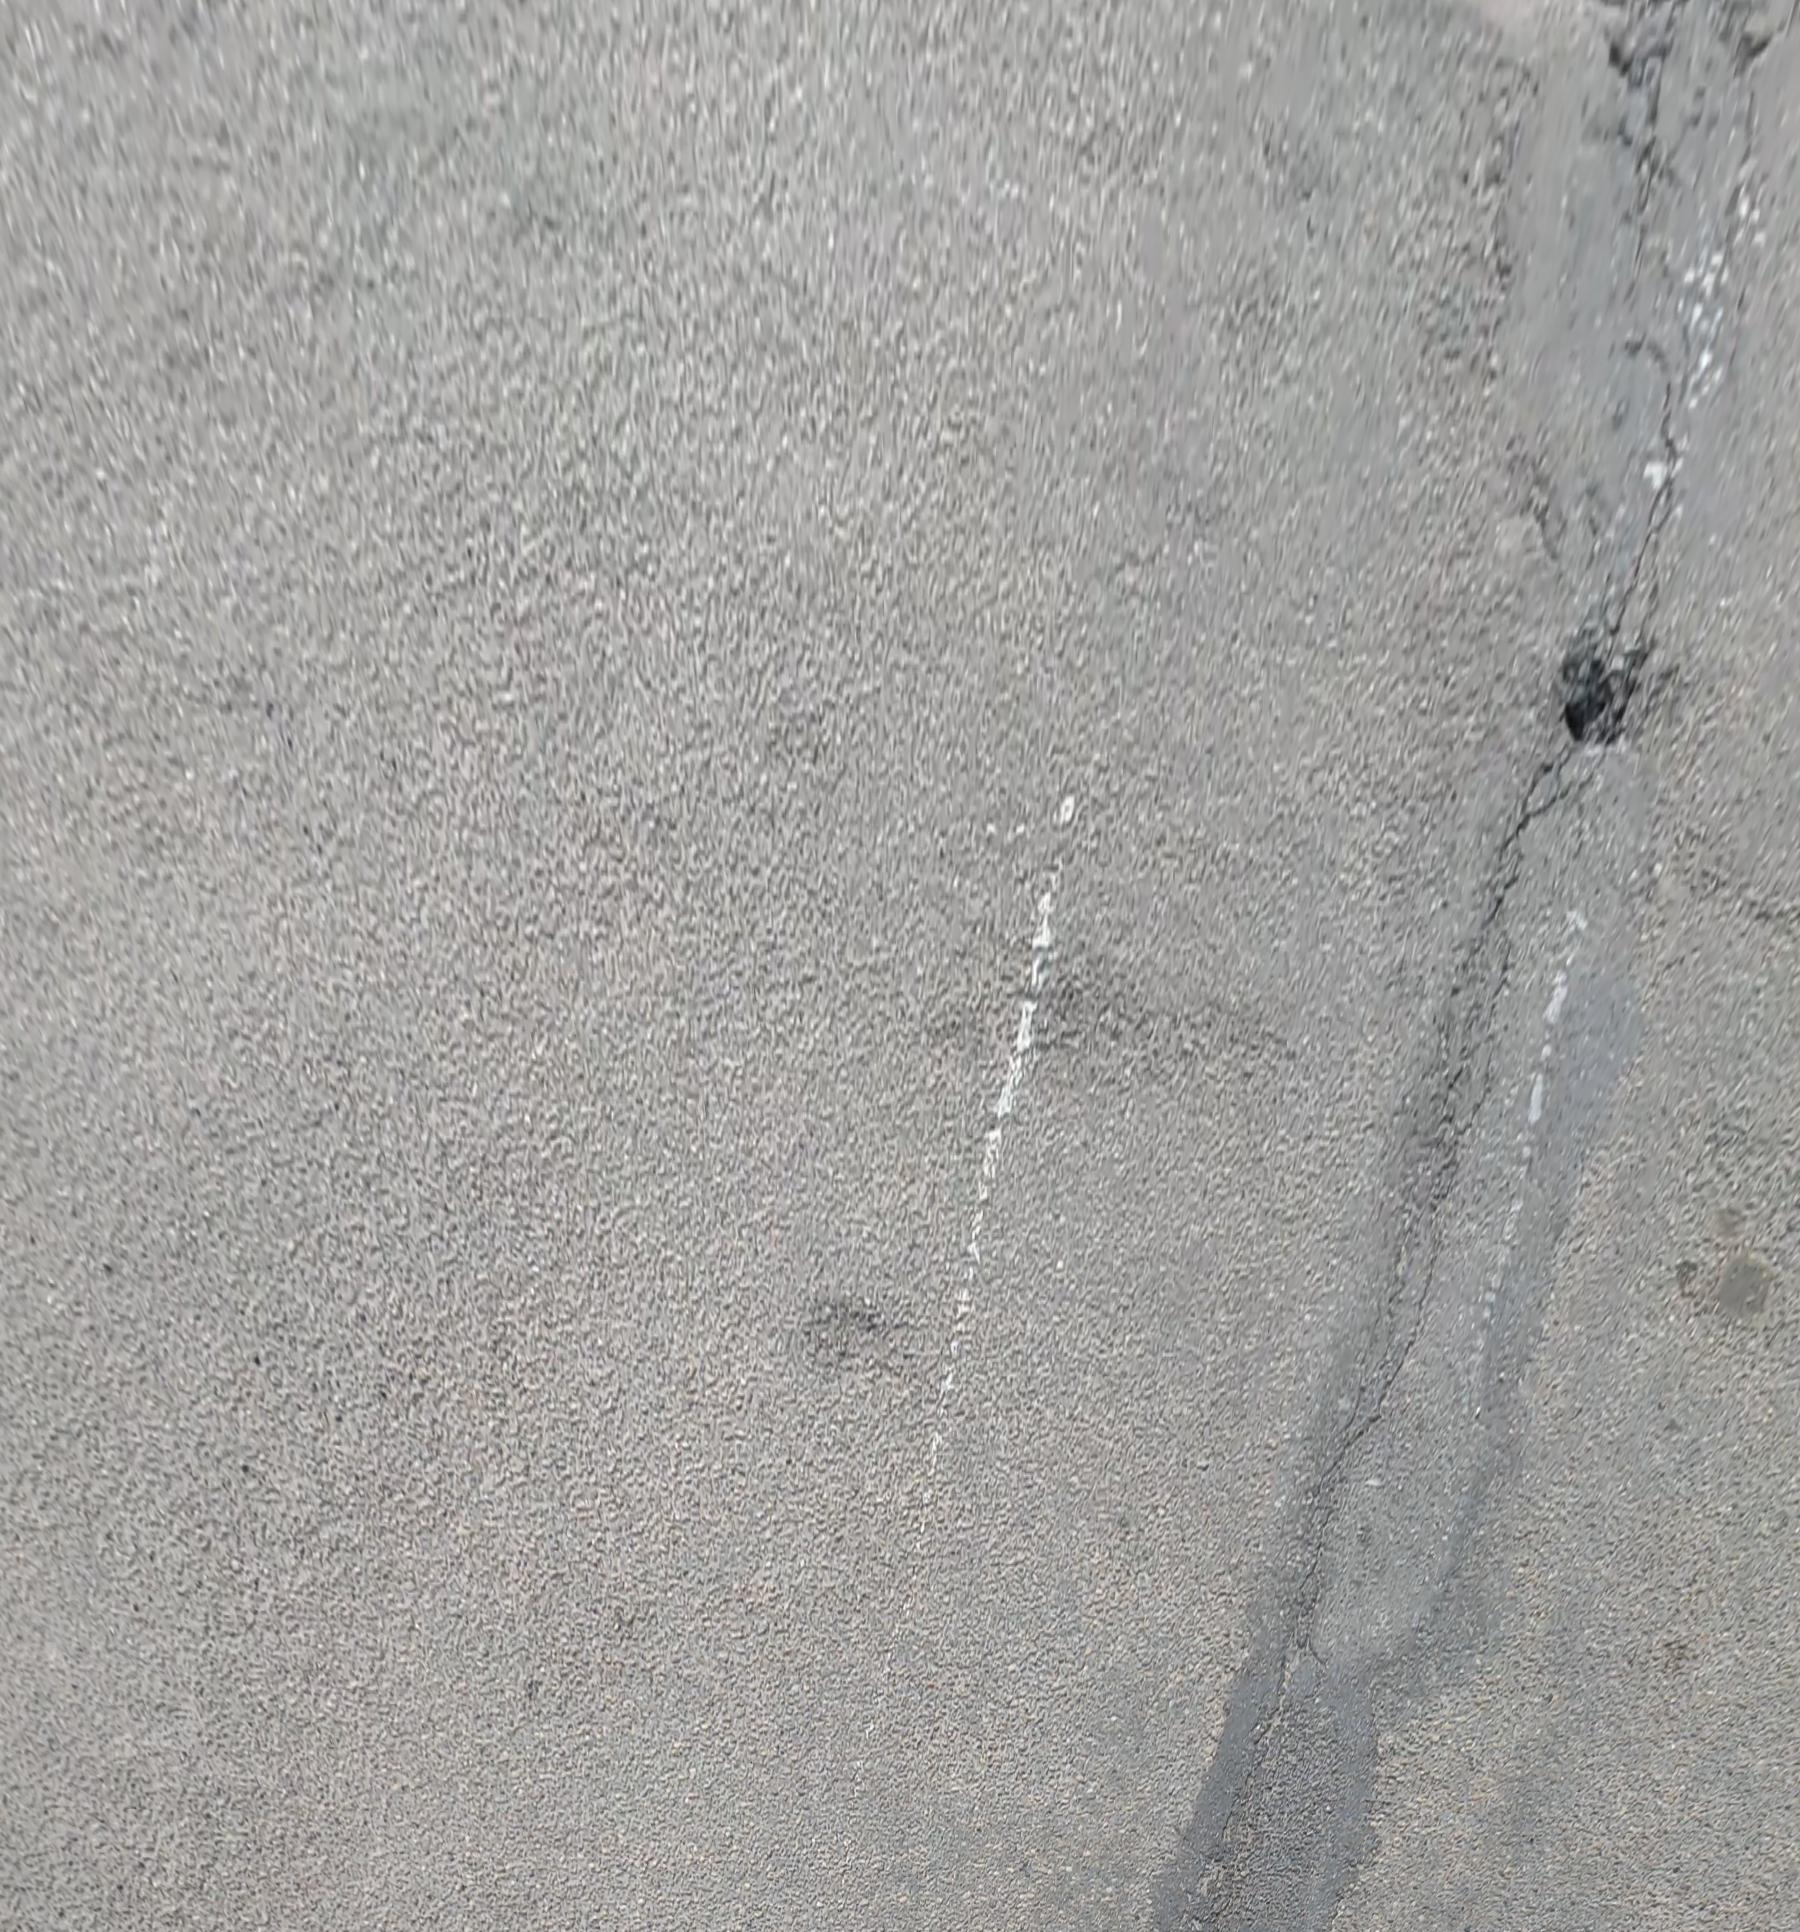pothole: (1555, 646, 1648, 751)
pothole_patch_poor: (1154, 0, 1770, 1932)
